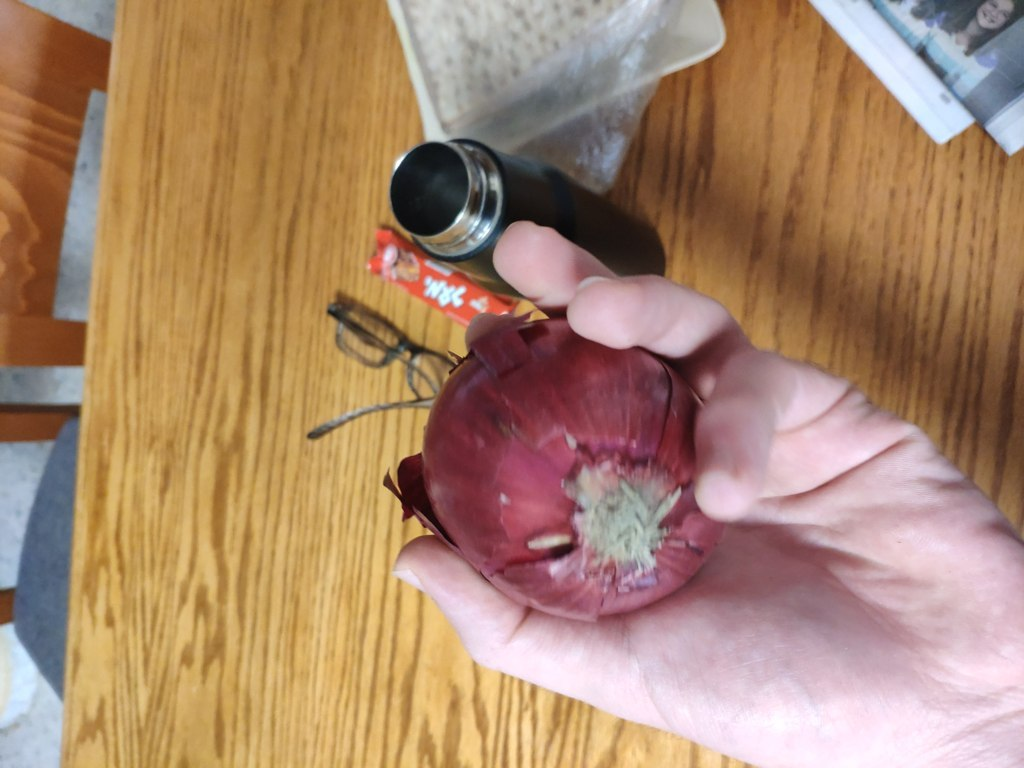Onion: (449, 321, 719, 623)
